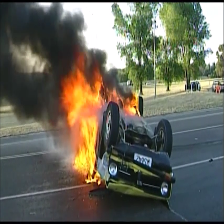fire_h: (62, 45, 104, 175), (121, 91, 141, 116)
fire_l: (106, 86, 119, 105), (84, 172, 101, 184)
